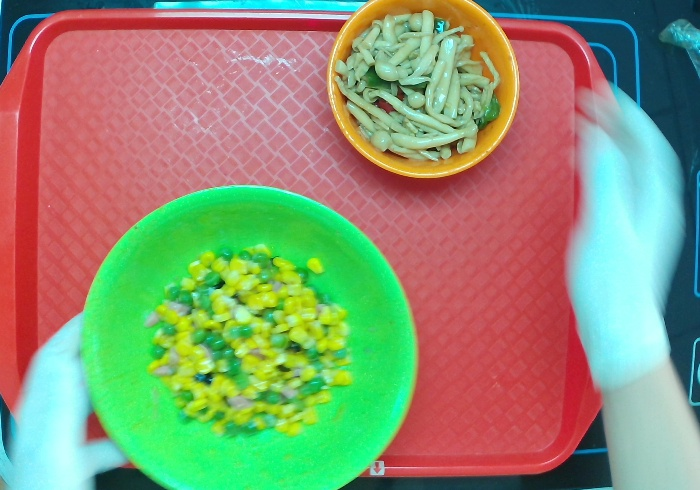YKMZ-Ju_Se_Yuan_Wan: (325, 1, 521, 180)
YKMZ-Lv_Se_Tang_Wan: (77, 182, 421, 490)
